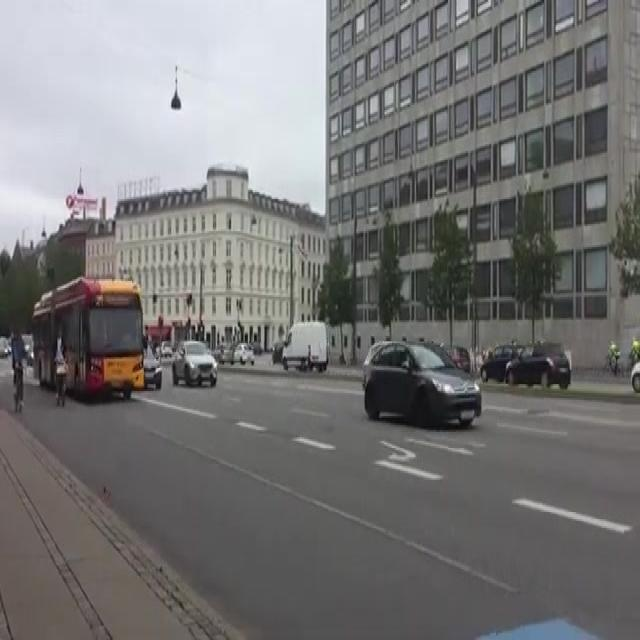Bus: (32, 270, 148, 407)
